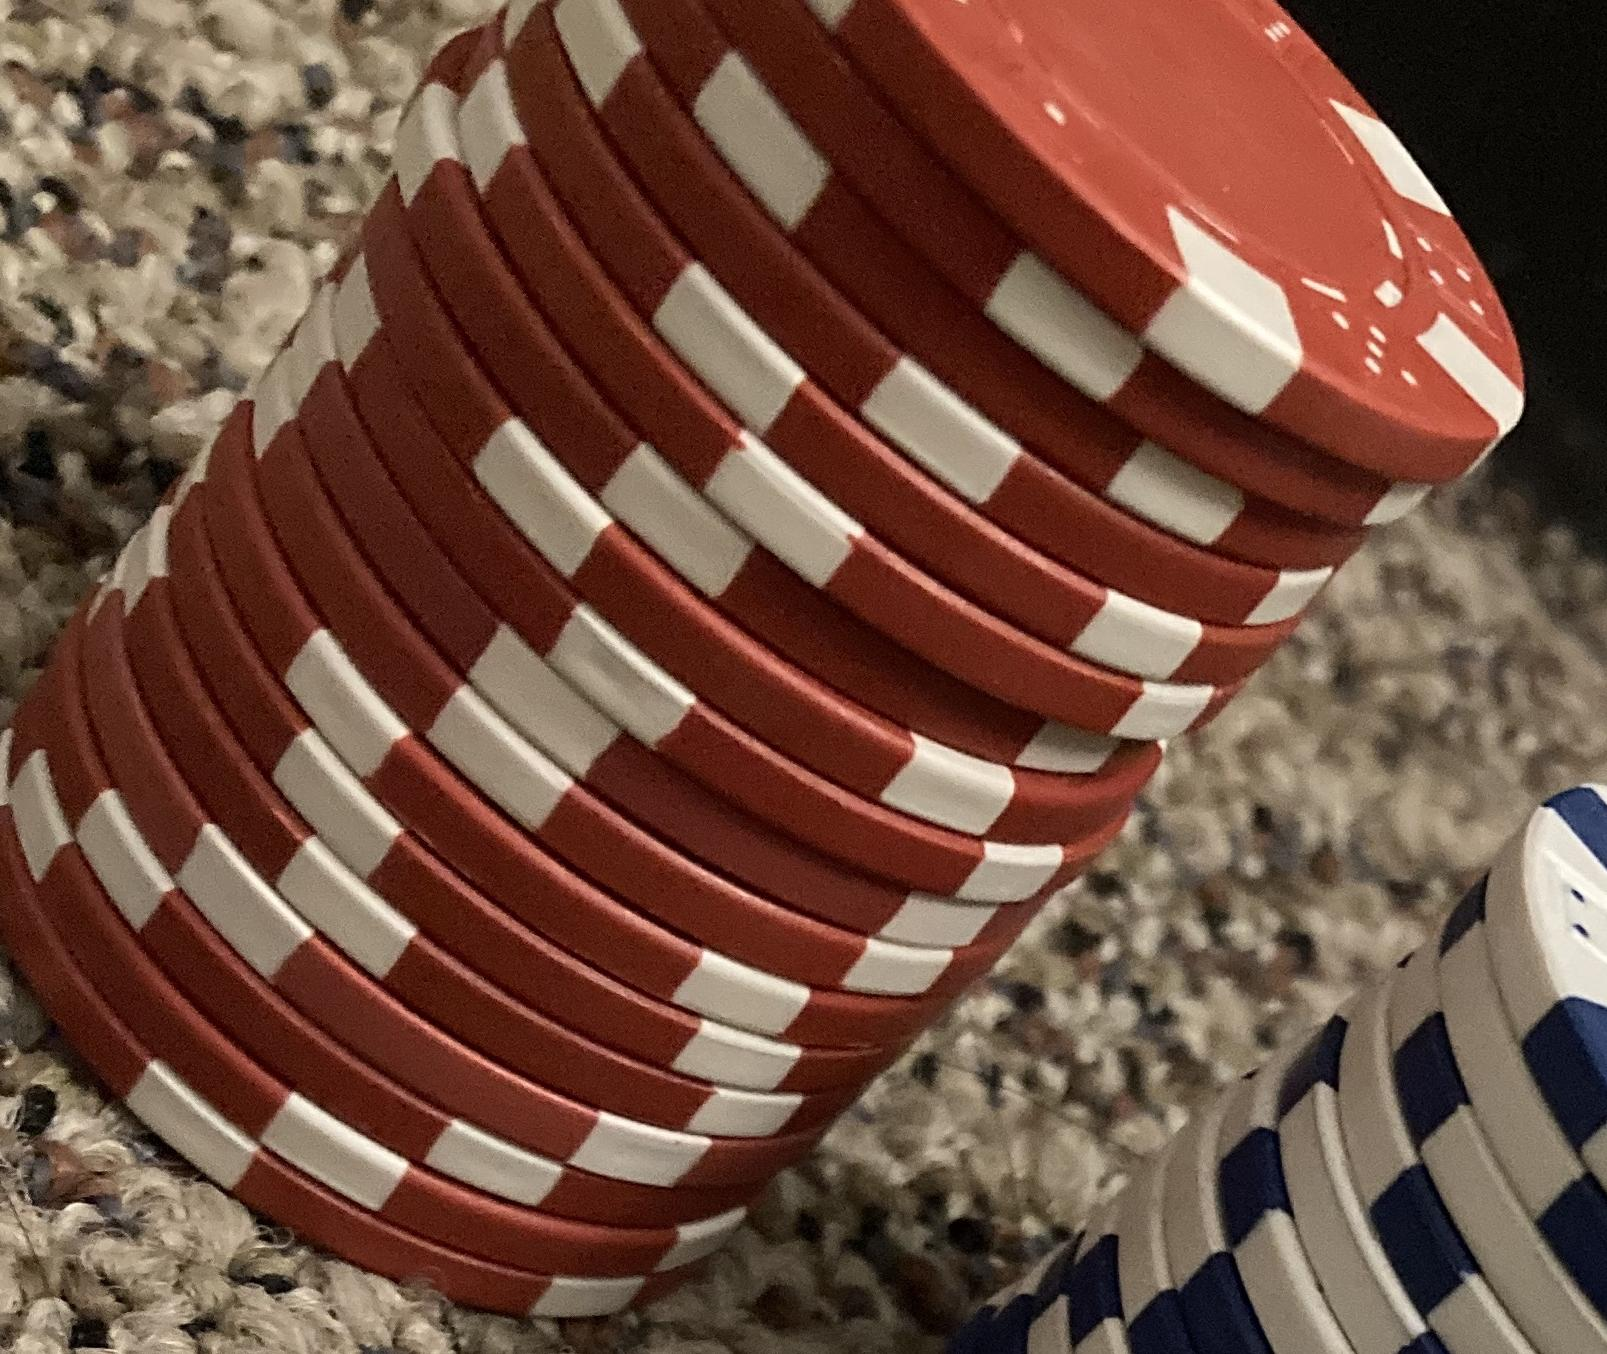Chip: (1, 1, 1607, 1354)
